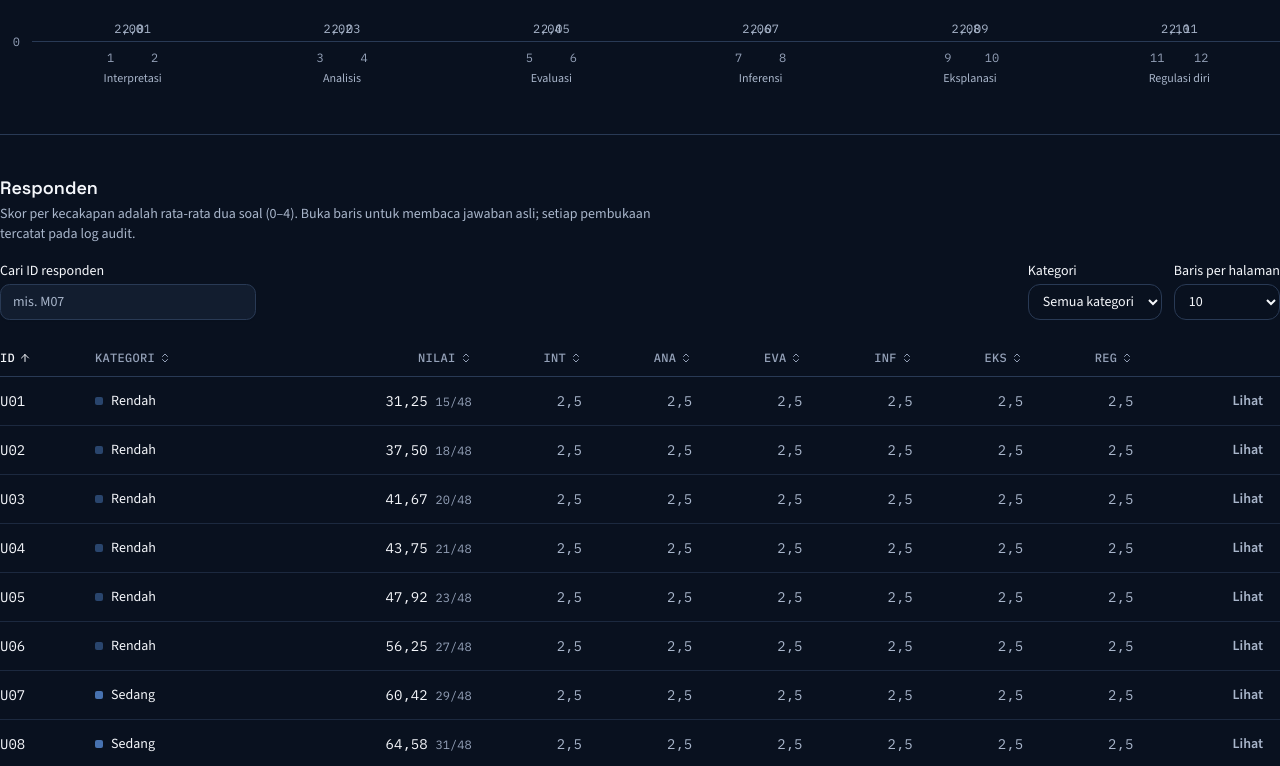
Test: dasbor admin › menampilkan galat dan dapat mencoba lagi
The width and height of the screenshot is (1280, 766).
(page scrolled)
Click the button with aria-label "Lihat jawaban U01". click: (1248, 401)
box: [1215,383,1279,419]
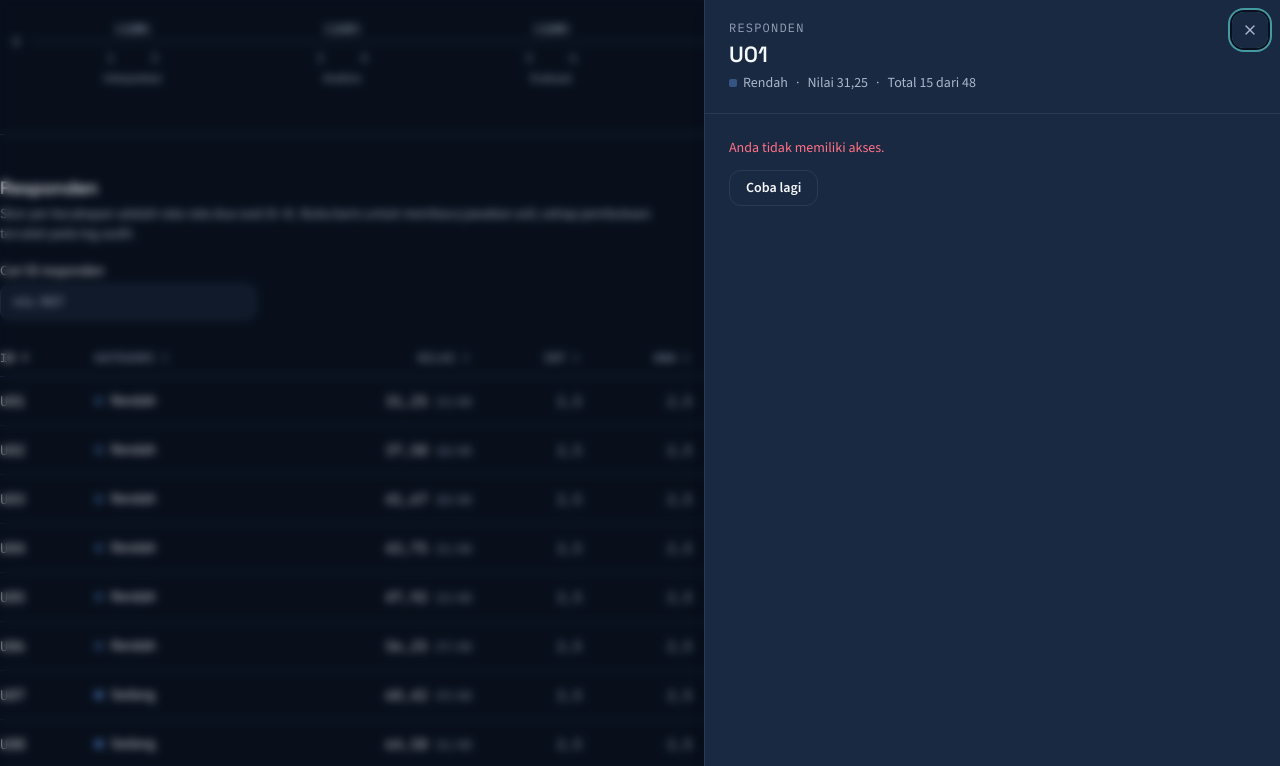
Expected: the message shows "Anda tidak memiliki akses.", [729,138,885,157]
Click the button "Coba lagi". click: (774, 188)
box: [729,170,818,206]
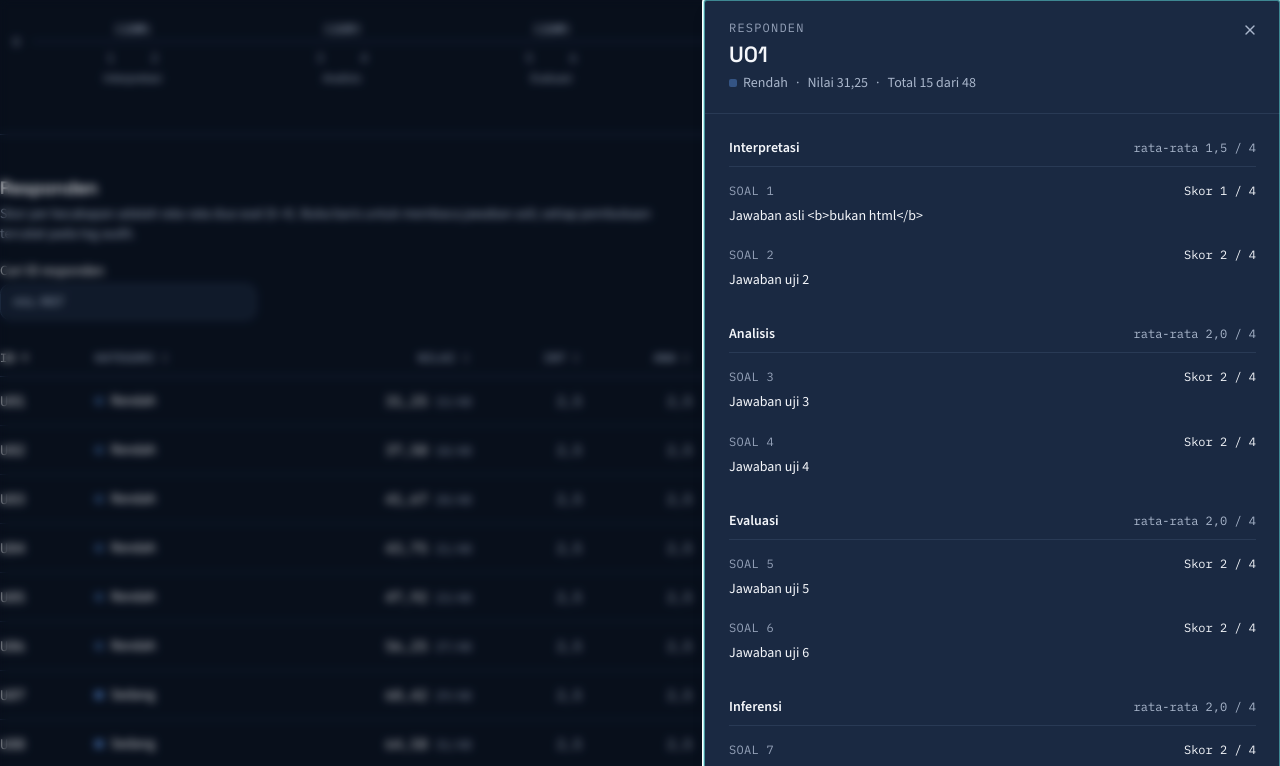
Expected: the text "Jawaban asli <b>bukan html</b>" is shown, [729,206,923,225]
